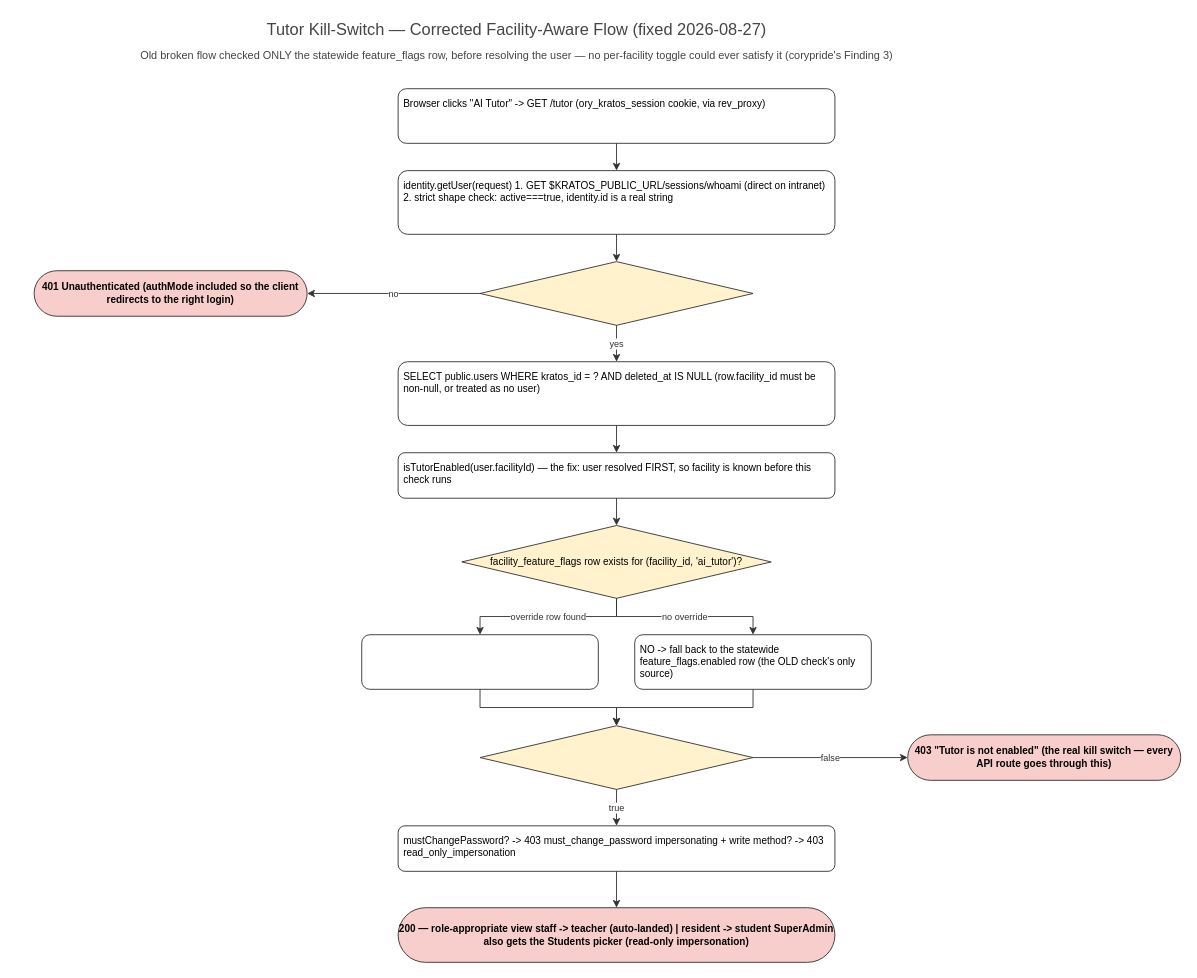
This 1197x978 diagram has some shape labels left out. Each missing label, with the centre of its shape:
"resulting value enabled?" belongs at [616,757].
"session valid?" belongs at [616,293].
"YES -> use the override's enabled value directly (wins in EITHER direction)" belongs at [479,661].
